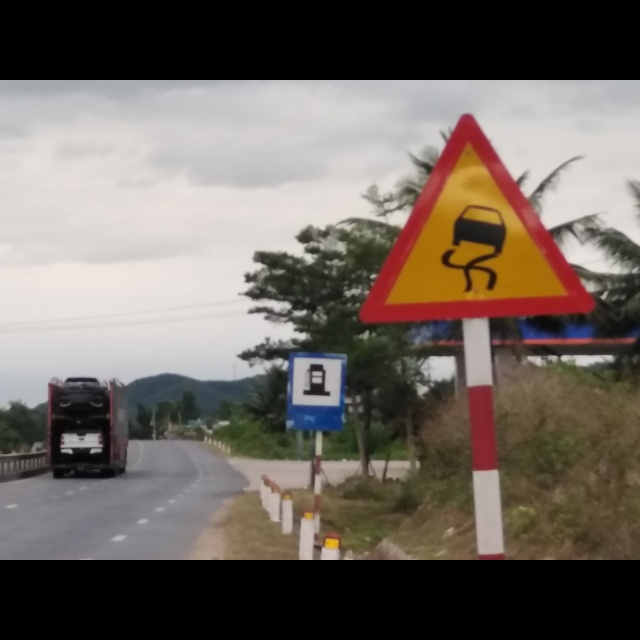Đường trơn trượt: (349, 109, 596, 324)
